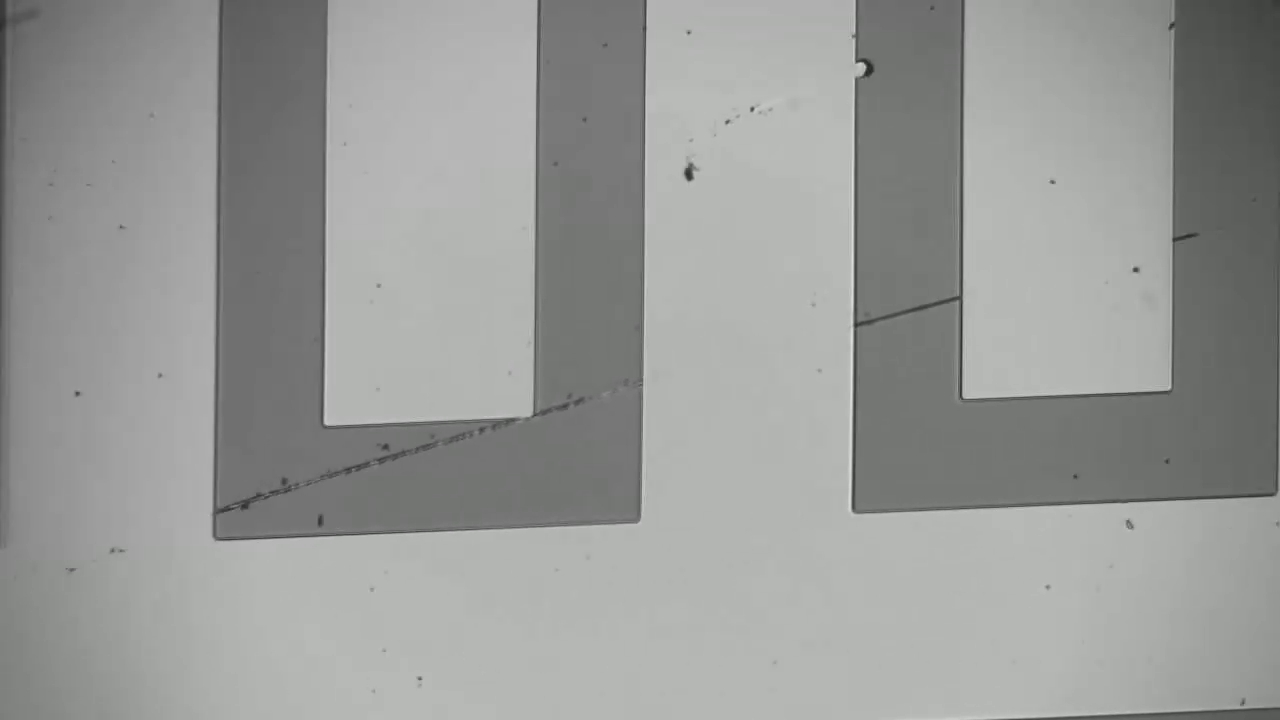scratch: (214, 372, 638, 511), (859, 294, 960, 325)
